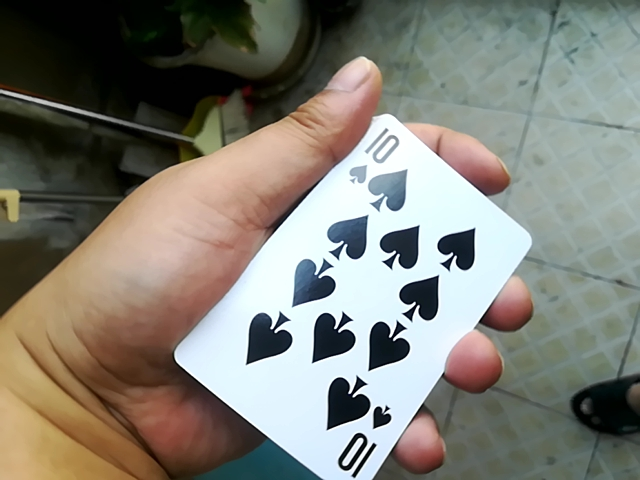ht 10: (159, 98, 534, 480)
